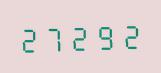nine: (93, 19, 117, 51)
seven: (43, 21, 67, 53)
two: (18, 22, 42, 54), (68, 20, 92, 52), (118, 18, 142, 50)
